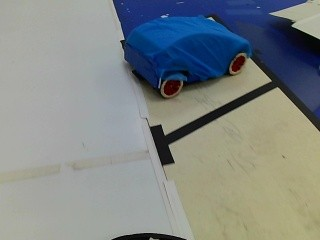car: (118, 18, 253, 90)
